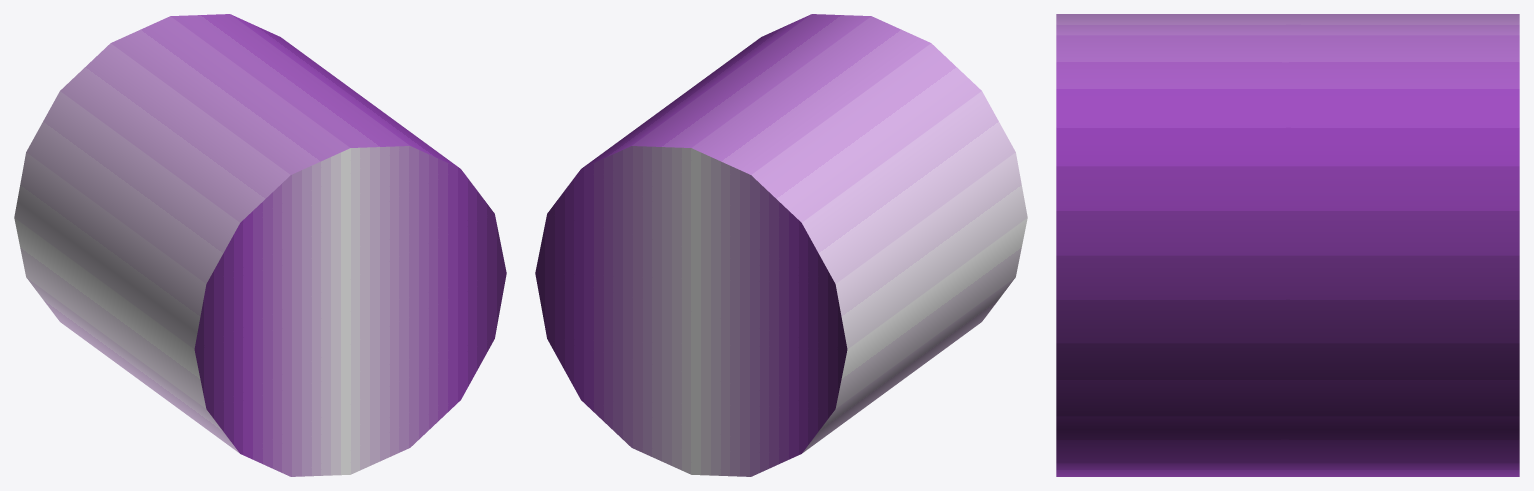
Rendered from pipePurple.dae.
3 renders of one model, left to right at view 1: azimuth 30°, elevation 25°; view 2: azimuth 150°, elevation 25°; view 3: azimuth 270°, elevation 25°, orthographic. The views are drawn at different scales.
Visible parts, largest first — view 1: skp97C2; view 2: skp97C2; view 3: skp97C2.
Part boxes in pixels (left/top/right/bottom): skp97C2: left=14, top=14, right=506, bottom=476; skp97C2: left=535, top=14, right=1027, bottom=476; skp97C2: left=1056, top=14, right=1519, bottom=476.
Size of the model in its own units: 39.37 by 39.37 by 39.37.
Materials: 1 (1 with a texture image).
